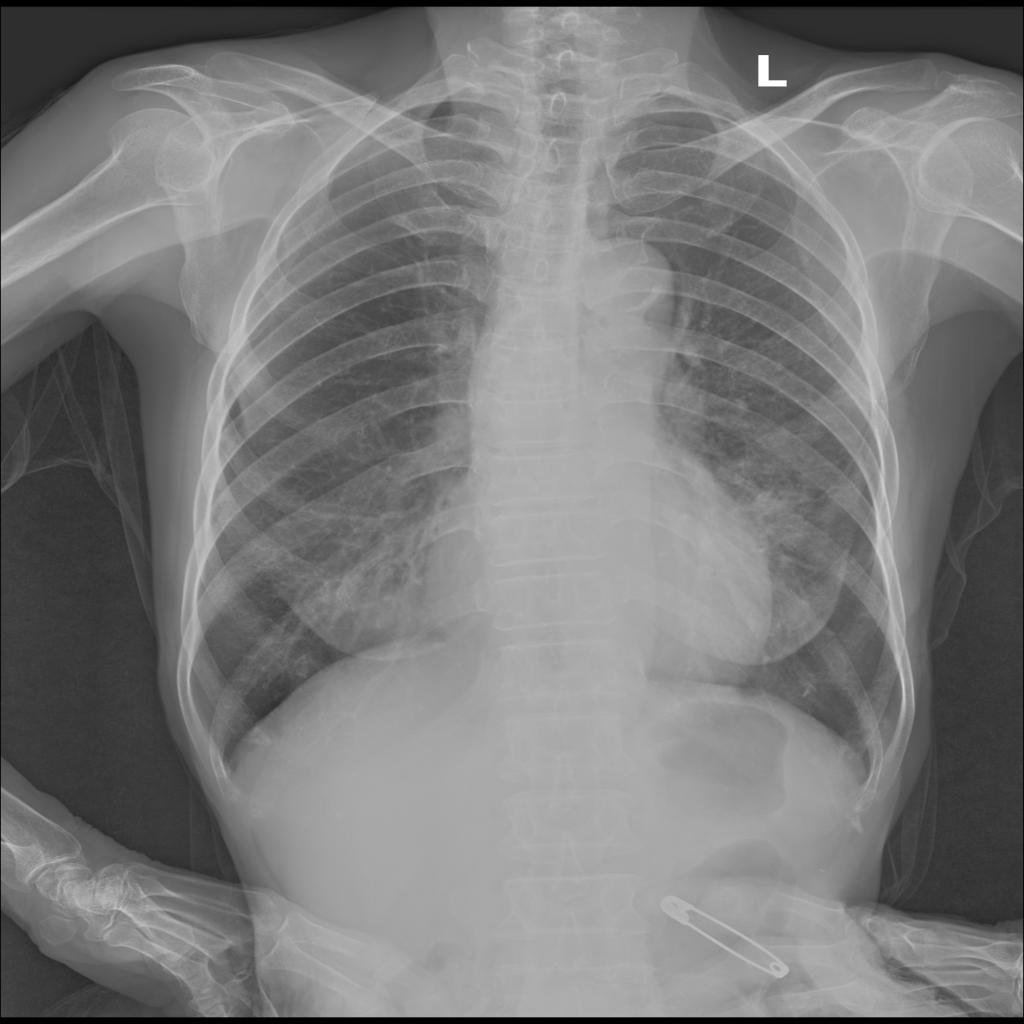Nodule: (362, 596, 404, 635), (776, 599, 809, 629)
